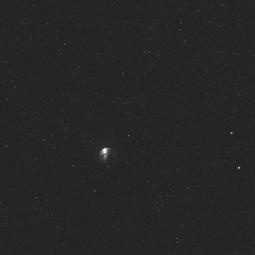debris: (95, 142, 121, 168)
